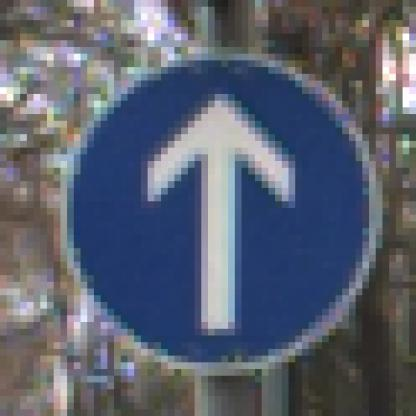AheadOnly: (42, 35, 384, 384)
